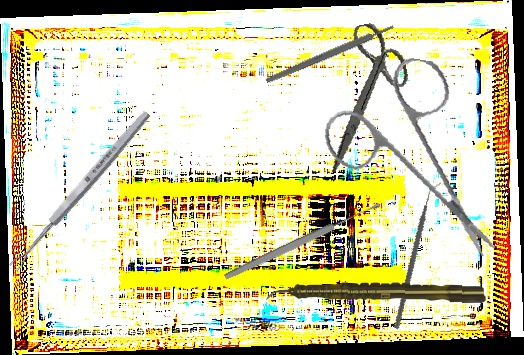Chopper: (356, 181, 481, 331)
Handpiece: (265, 280, 488, 305)
Iris Scissors: (309, 46, 523, 258), (303, 17, 425, 173)
Scalpel Handle: (264, 23, 396, 85)
Surgical Spoon: (7, 108, 153, 273), (221, 199, 384, 283)
